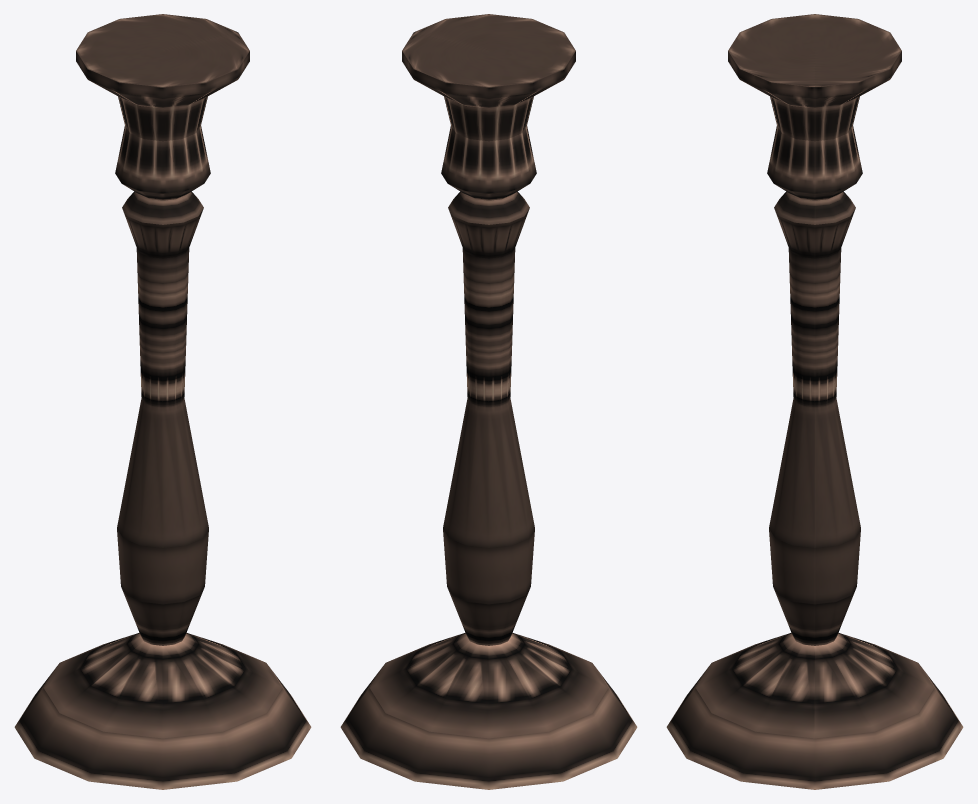
File: Candle01_B03.FBX
3 views of the same model, side by side, from view 1: azimuth 30°, elevation 25°; view 2: azimuth 150°, elevation 25°; view 3: azimuth 270°, elevation 25° (orthographic).
Parts seen in each view (by area): view 1: Candle01_B03; view 2: Candle01_B03; view 3: Candle01_B03.
Boxes of the visible parts, bbox=[...] form: Candle01_B03: bbox=[14, 14, 311, 789]; Candle01_B03: bbox=[340, 14, 637, 789]; Candle01_B03: bbox=[666, 14, 963, 789].
Bounding box in the file's own units: 15.9 × 15.9 × 39.96.
